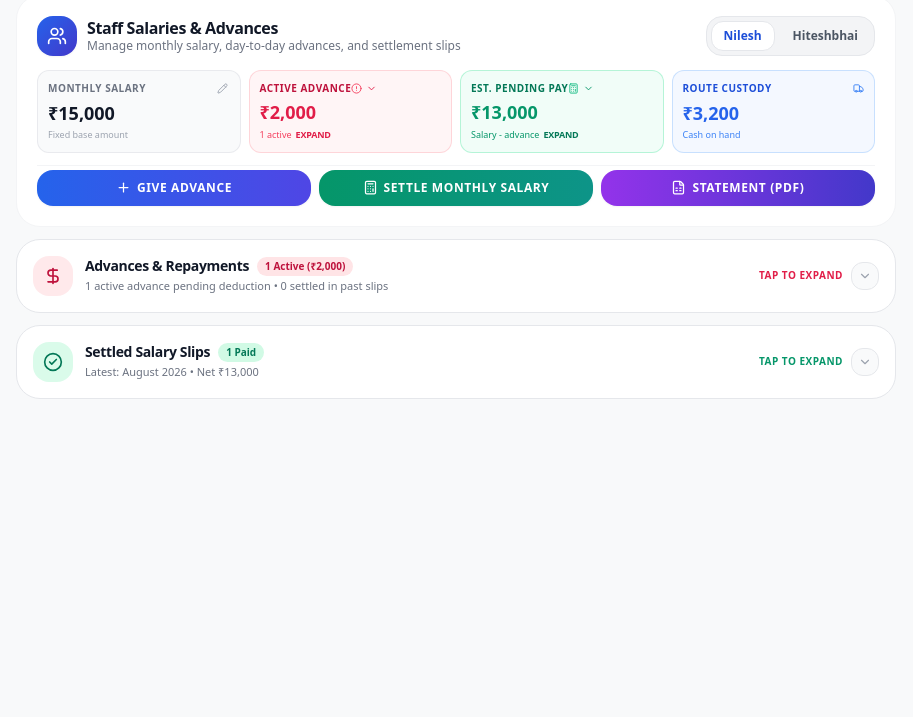
Test: StaffSalariesDashboard › supports click-to-expand on Advances & Repayments via top metric card and accordion toggle
The image size is (913, 717).
expect the button "Active Only" is not shown: met
# Click Active Advance card to expand
Click the button titled "Click to expand advances and repayments" at (350, 111), box [248,70,452,152]
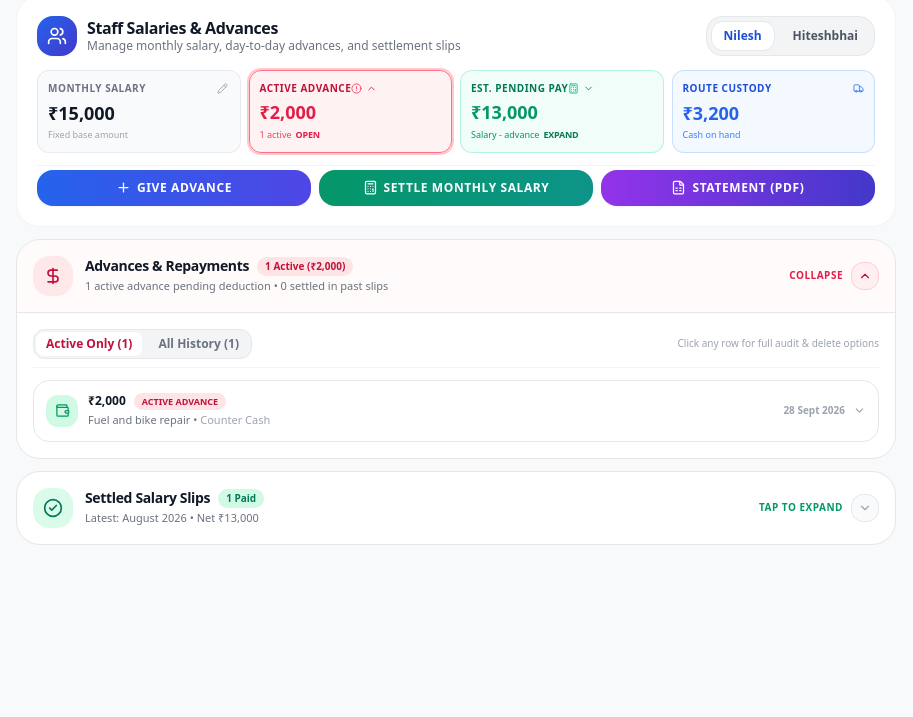
expect the button "Active Only (1)" is shown: met, box [36,332,142,356]
expect the text "Fuel and bike repair • Counter Cash" is shown: met, box [88,412,270,428]
# Clicking row expands additional audit details
Click the button with aria-label "Toggle advance tx-1 details" at (62, 410), box [34,380,878,440]
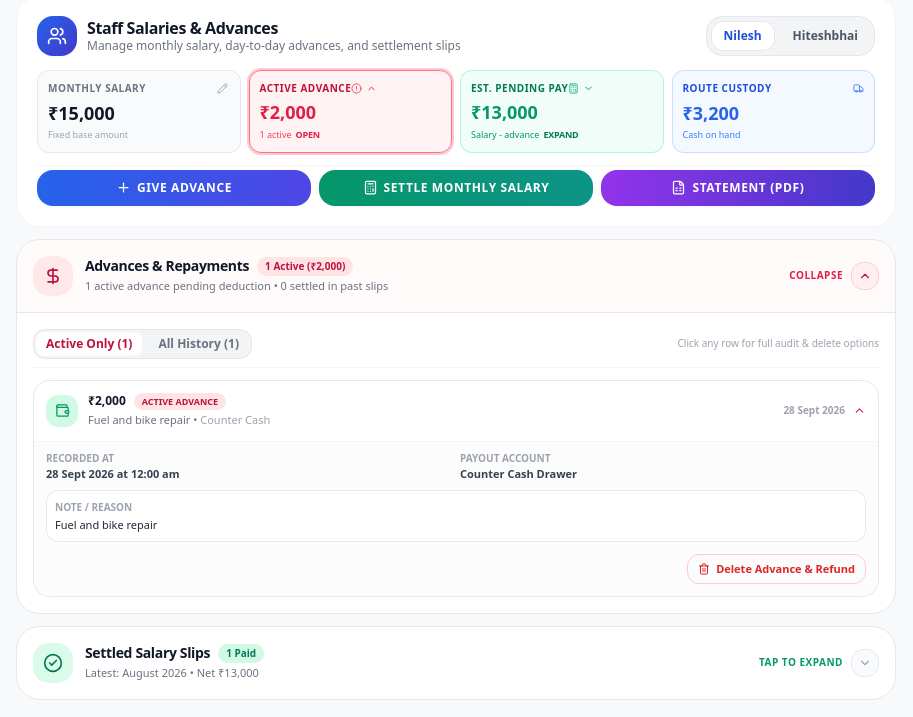
expect the text "Counter Cash Drawer" is shown: met, box [460,466,577,480]
expect the button "Delete Advance & Refund" is shown: met, box [687,554,866,584]
# Click accordion header to collapse
Click the button "Advances & Repayments" at (53, 276), box [17,240,895,312]
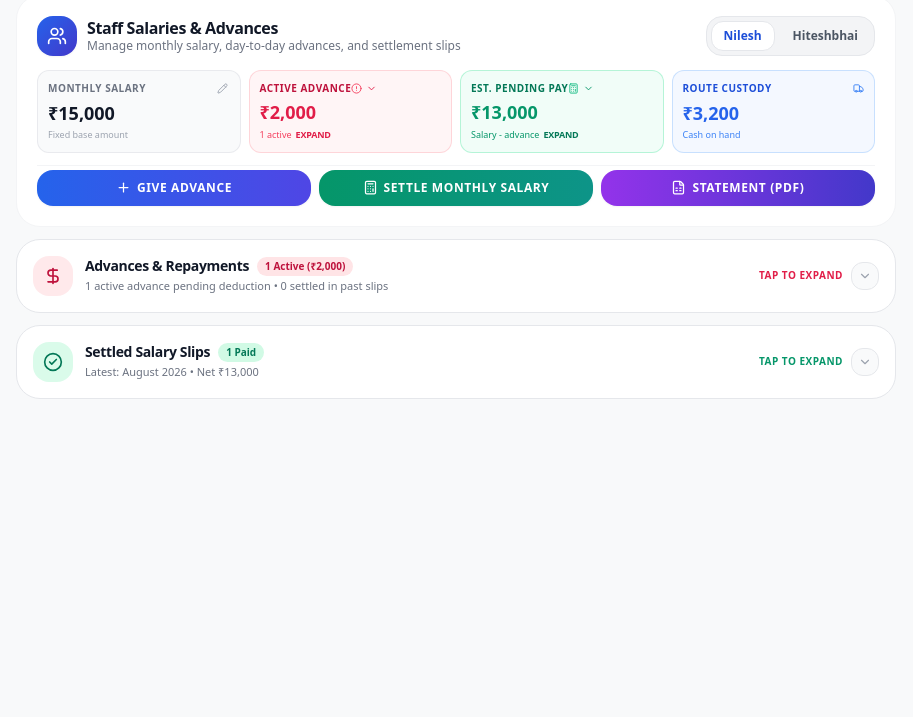
expect the button "Active Only" is gone: met
